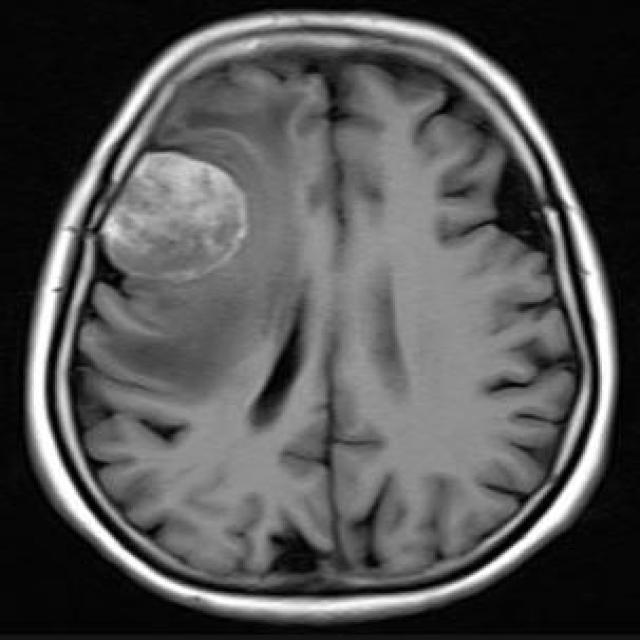Tumor-Cell: (88, 123, 253, 302)
